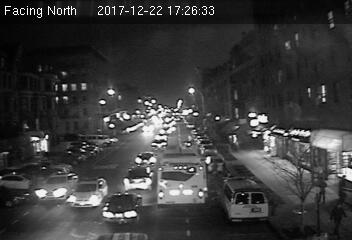bus: (157, 152, 208, 207)
car: (35, 167, 78, 203), (101, 193, 144, 227), (122, 166, 154, 192), (206, 153, 226, 173), (134, 152, 157, 166), (150, 138, 168, 149)
police: (219, 176, 270, 227), (68, 175, 108, 210)
